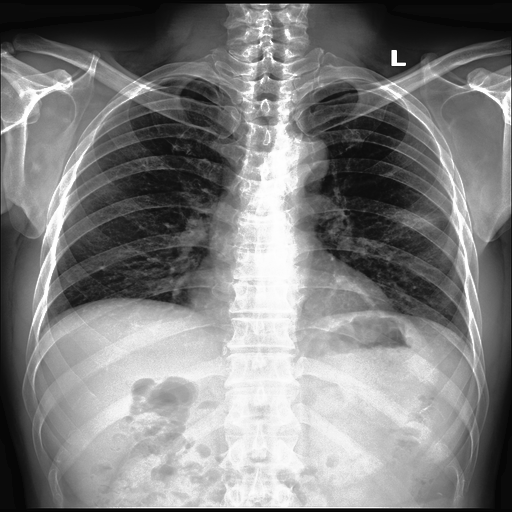Consolidation: (267, 132, 330, 187)
ILD: (388, 208, 448, 230)
Pleural thickening: (388, 208, 446, 231)
Pneumothorax: (388, 208, 448, 230)
